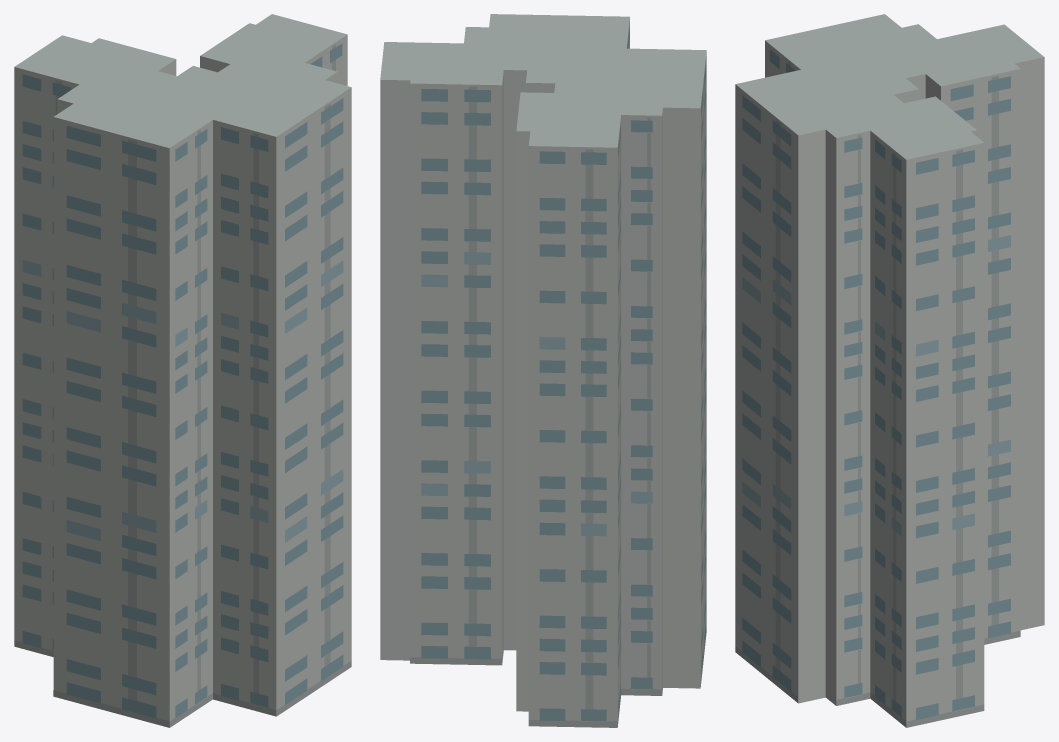
The model's file is residential-e77a70a2-98f2-46dc-90ba-df885ddb6371.glb.
3 views of the same model, side by side, from view 1: azimuth 30°, elevation 25°; view 2: azimuth 150°, elevation 25°; view 3: azimuth 270°, elevation 25° (orthographic). The views are drawn at different scales.
Parts seen in each view (by area): view 1: residential-e77a70a2-98f2-46dc-90ba-df885ddb6371.tmp; view 2: residential-e77a70a2-98f2-46dc-90ba-df885ddb6371.tmp; view 3: residential-e77a70a2-98f2-46dc-90ba-df885ddb6371.tmp.
Boxes of the visible parts, box(x1,y1,x2,y2) form: residential-e77a70a2-98f2-46dc-90ba-df885ddb6371.tmp: box(14, 14, 351, 727); residential-e77a70a2-98f2-46dc-90ba-df885ddb6371.tmp: box(380, 14, 706, 727); residential-e77a70a2-98f2-46dc-90ba-df885ddb6371.tmp: box(735, 14, 1044, 727).
Size of the model in its own units: 39.12 by 71 by 35.03.
